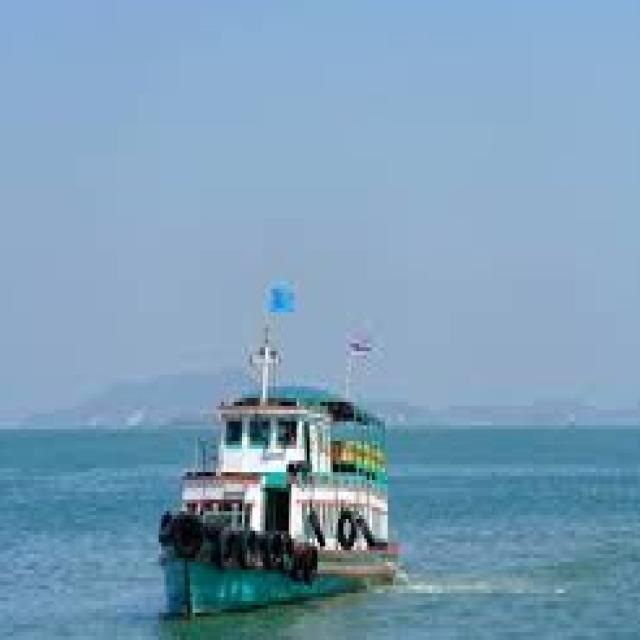fishing boat: (157, 309, 410, 614)
